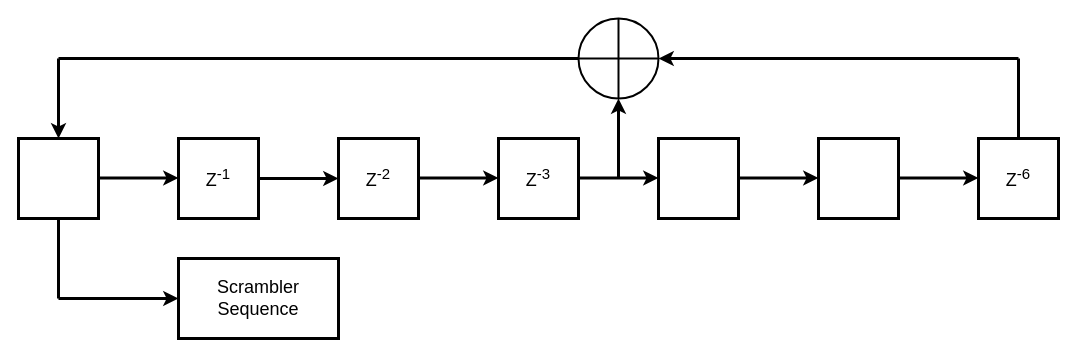
This 1077x357 diagram has some shape labels left out. The centre of each missing label's shape, as x and y in pixels:
Z -4: (698,178)
Z -5: (858,178)
Z 0: (58,178)
